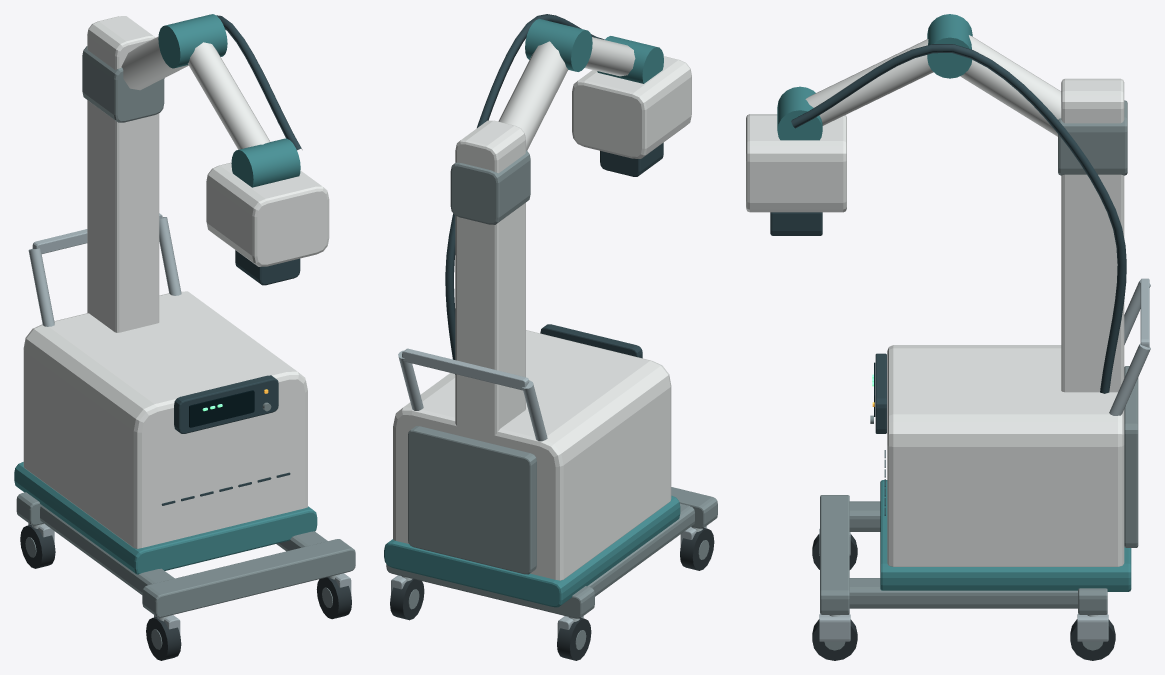
Rendered from portable-xray.glb.
3 renders of one model, left to right at view 1: azimuth 30°, elevation 25°; view 2: azimuth 150°, elevation 25°; view 3: azimuth 270°, elevation 25°, orthographic. The views are drawn at different scales.
Parts seen in each view (by area): view 1: portable-xray-batch (×6), portable-xray; view 2: portable-xray-batch (×6); view 3: portable-xray-batch (×6).
Boxes of the visible parts, x1,y1,x2,y2 form: portable-xray-batch (×6): (14,14,355,660); portable-xray: (189,389,268,427); portable-xray-batch (×6): (384,14,717,660); portable-xray-batch (×6): (746,14,1150,660).
Size of the model in its own units: 0.68 by 1.87 by 1.16.
